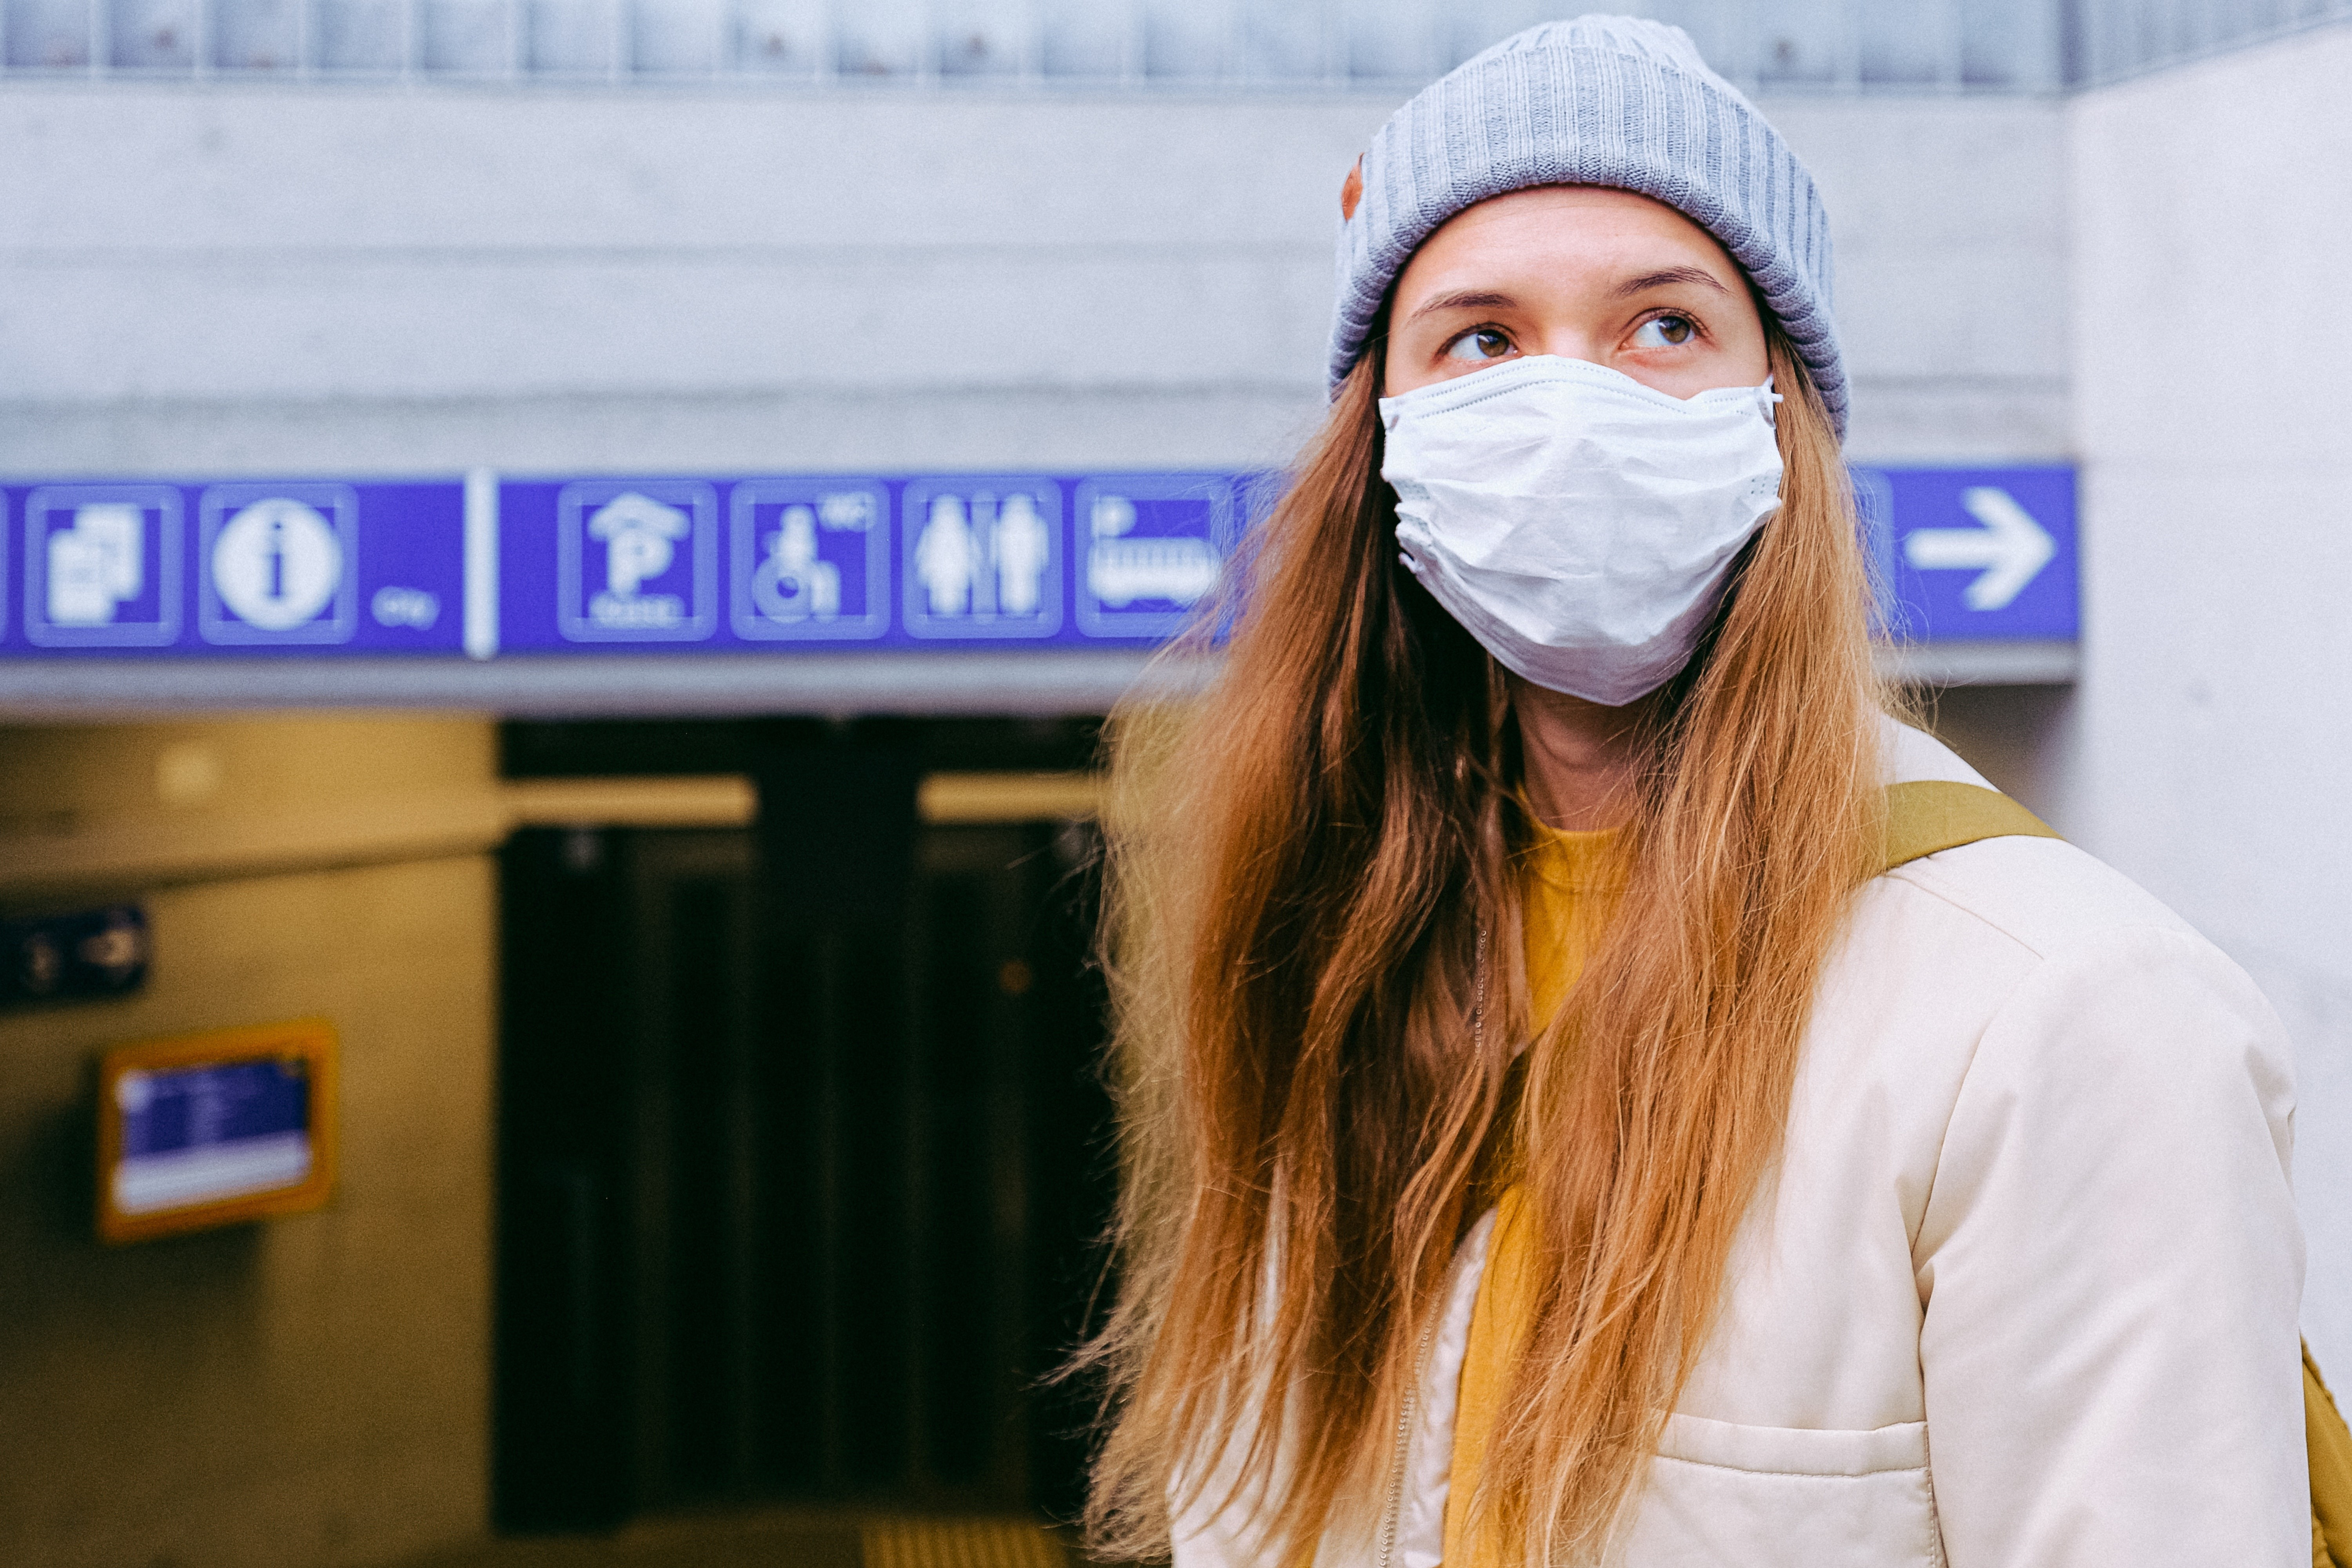face_with_mask: (1356, 13, 1857, 705)
